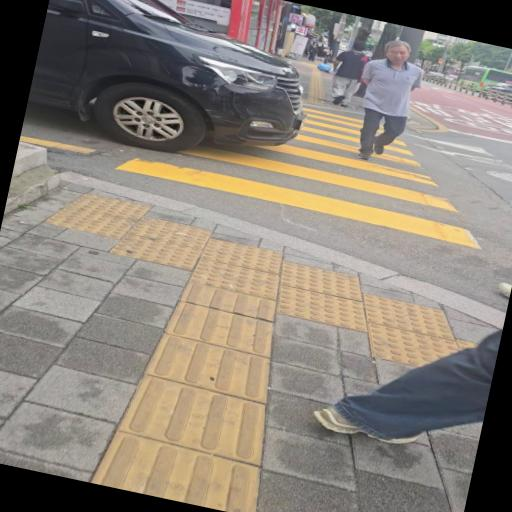yellow-crosswalk: (89, 62, 512, 264)
